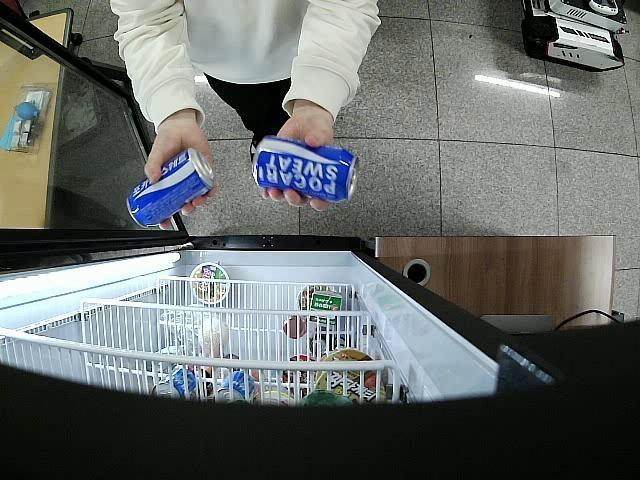13_pocariSweat: (252, 135, 360, 204), (126, 147, 214, 228)
